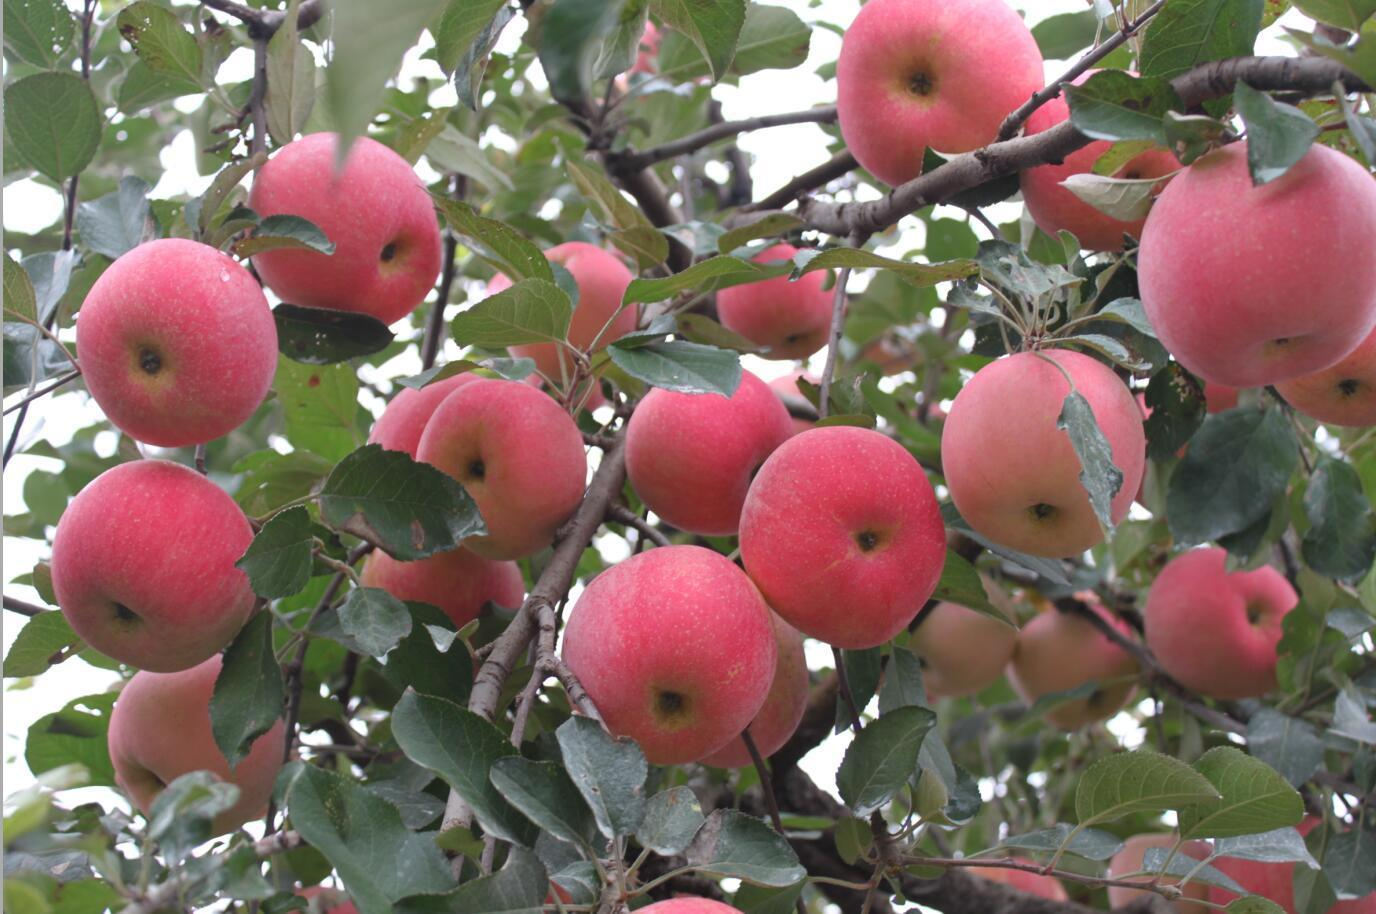apple: (1136, 130, 1372, 405), (559, 544, 781, 768), (735, 417, 946, 651), (45, 460, 255, 678), (941, 342, 1141, 567), (72, 240, 274, 453), (831, 1, 1047, 189), (251, 137, 441, 331), (398, 372, 584, 567), (112, 654, 296, 836), (625, 366, 807, 539), (1141, 543, 1294, 705), (1016, 135, 1191, 248), (714, 267, 836, 365)
